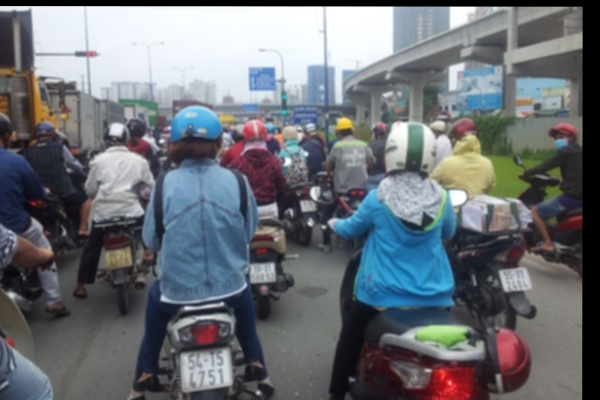Bien-so: (178, 347, 235, 396), (501, 267, 534, 293), (106, 246, 135, 271), (250, 261, 278, 284), (300, 198, 320, 213)
